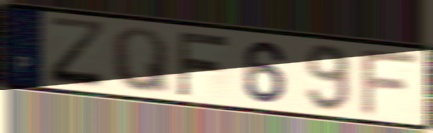6: (241, 38, 289, 106)
9: (303, 43, 353, 114)
F: (358, 48, 421, 118), (175, 29, 232, 98)
Q: (109, 25, 173, 97)
Z: (47, 15, 110, 92)
